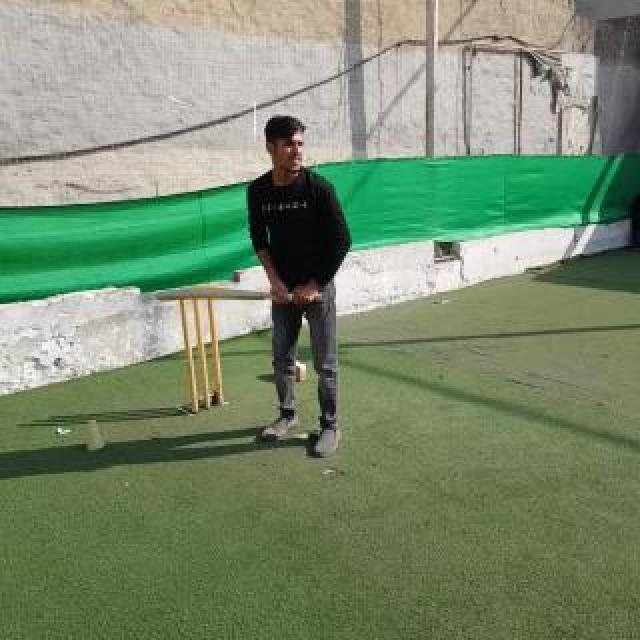bat: (156, 286, 322, 304)
